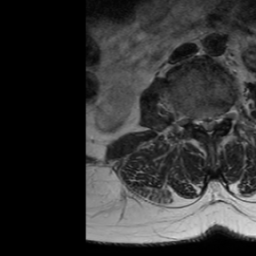CCS_stenosis: (204, 114, 211, 142)
LFS_stenosis: (218, 105, 224, 128)
LLS_stenosis: (210, 109, 218, 136)
RFS_stenosis: (190, 110, 198, 134)
RLS_stenosis: (198, 111, 205, 136)
